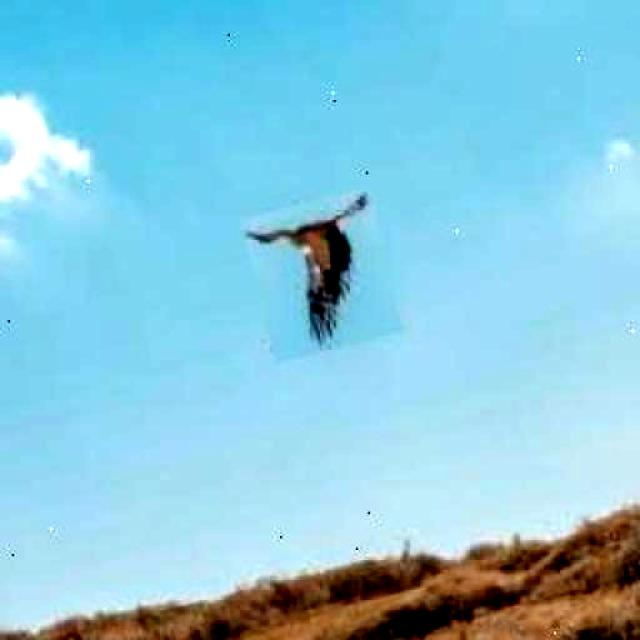airplane: (239, 189, 402, 365)
